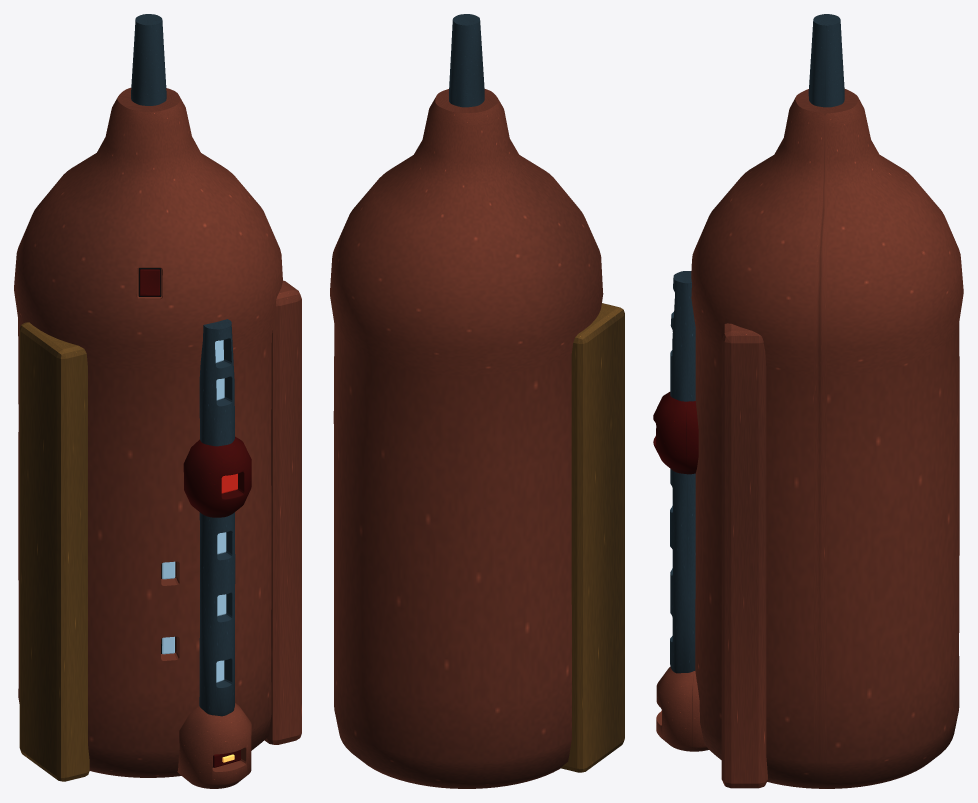
3 renders of one model, left to right at view 1: azimuth 30°, elevation 25°; view 2: azimuth 150°, elevation 25°; view 3: azimuth 270°, elevation 25°, orthographic.
Visible parts, largest first — view 1: AC19 enclosed main casing, AC19 grounded ochre left facing, AC19 grounded long coral right facing, AC19 supported front conduit, AC19 grounded front shoe, AC19 red conduit instrument, AC19 short slate upper tip, AC19 upper red recessed port; view 2: AC19 enclosed main casing, AC19 grounded ochre left facing, AC19 short slate upper tip; view 3: AC19 enclosed main casing, AC19 grounded long coral right facing, AC19 supported front conduit, AC19 grounded front shoe, AC19 red conduit instrument, AC19 short slate upper tip.
Boxes of the visible parts, x1=… form: AC19 enclosed main casing: x1=14, y1=87, x2=282, y2=777; AC19 grounded ochre left facing: x1=19, y1=322, x2=89, y2=781; AC19 grounded long coral right facing: x1=264, y1=280, x2=301, y2=744; AC19 supported front conduit: x1=199, y1=319, x2=235, y2=716; AC19 grounded front shoe: x1=177, y1=703, x2=251, y2=788; AC19 red conduit instrument: x1=183, y1=436, x2=251, y2=517; AC19 short slate upper tip: x1=131, y1=14, x2=166, y2=105; AC19 upper red recessed port: x1=139, y1=269, x2=160, y2=296; AC19 enclosed main casing: x1=330, y1=89, x2=603, y2=788; AC19 grounded ochre left facing: x1=560, y1=303, x2=624, y2=772; AC19 short slate upper tip: x1=449, y1=14, x2=484, y2=107; AC19 enclosed main casing: x1=691, y1=89, x2=963, y2=788; AC19 grounded long coral right facing: x1=721, y1=323, x2=767, y2=788; AC19 supported front conduit: x1=670, y1=271, x2=695, y2=673; AC19 grounded front shoe: x1=656, y1=666, x2=708, y2=751; AC19 red conduit instrument: x1=653, y1=392, x2=698, y2=474; AC19 short slate upper tip: x1=808, y1=14, x2=844, y2=107.
Bounding box in the file's own units: 1.34 × 3.78 × 1.48.
Materials: 8 (5 with a texture image).
